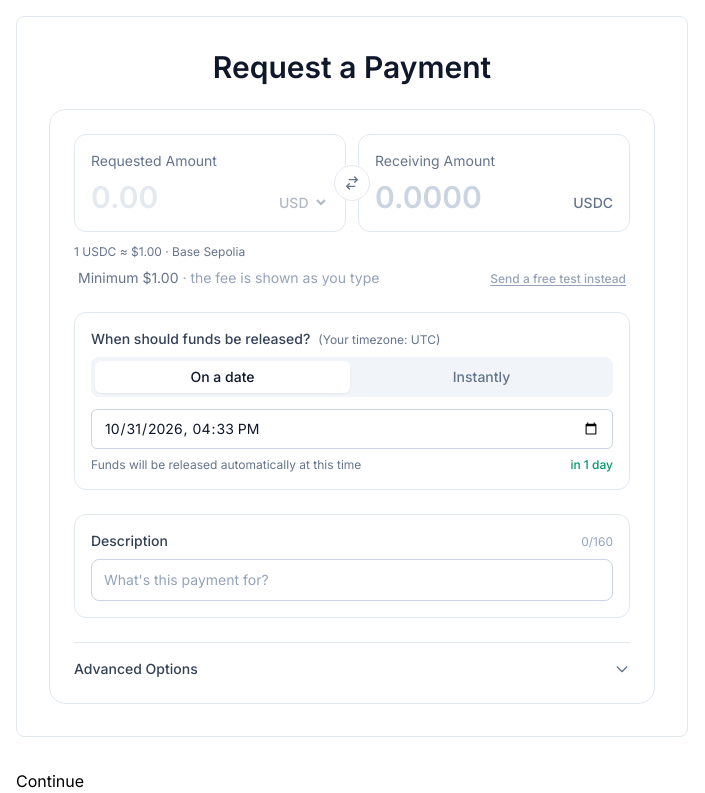
Test: CreateContractWizard - arbiterAddress (advanced option) › reveals the arbiter field after clicking Advanced Options
This screenshot has width=705, height=793.
(page scrolled)
Step 1. Click the button "Advanced Options" → (136, 668), box [74,659,630,679]
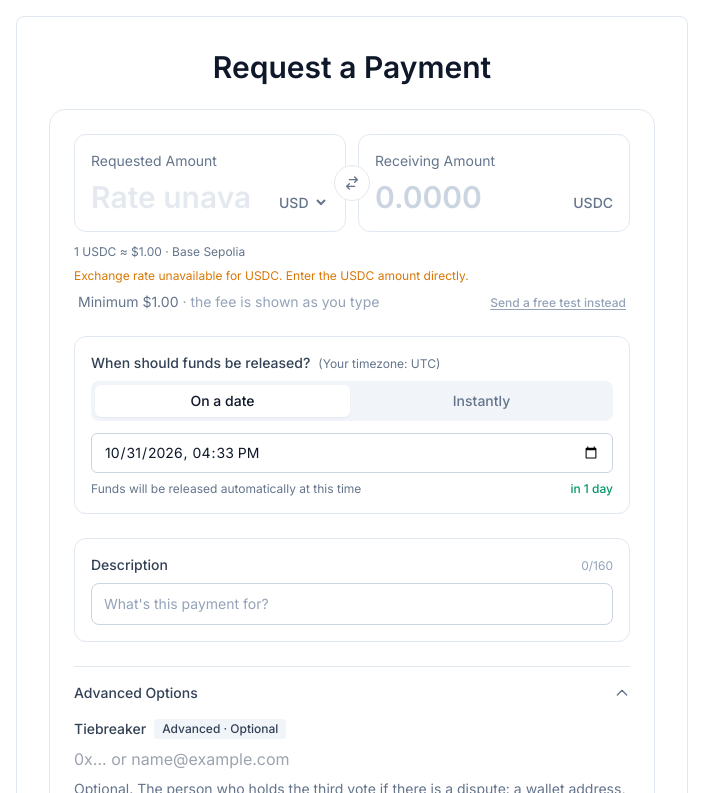
Check: the field with placeholder "0x... or name@example.com" is shown, box [74,747,308,771]
Check: the text "Tiebreaker" is shown, box [74,719,146,739]
